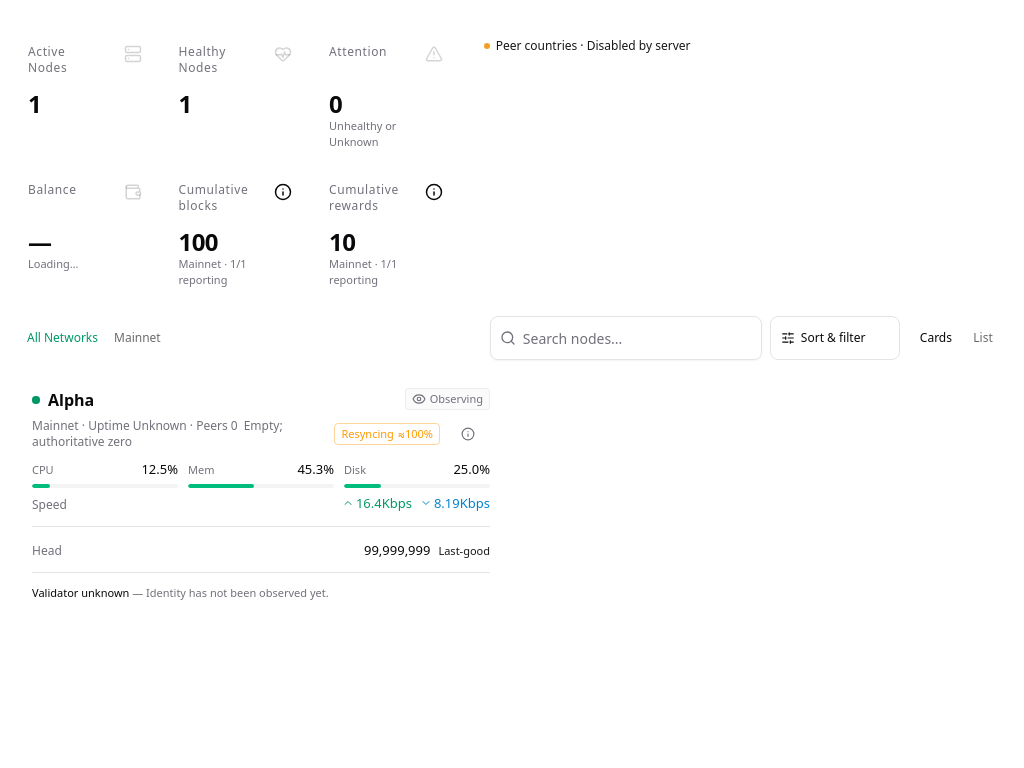
Test: Public Home dashboard › renders resync heights safely: 99,999,999 / 100,000,000 (≈100%)
Click the button "Resyncing ≈100%" at (387, 434), box x1=334 y1=412 x2=440 y2=456
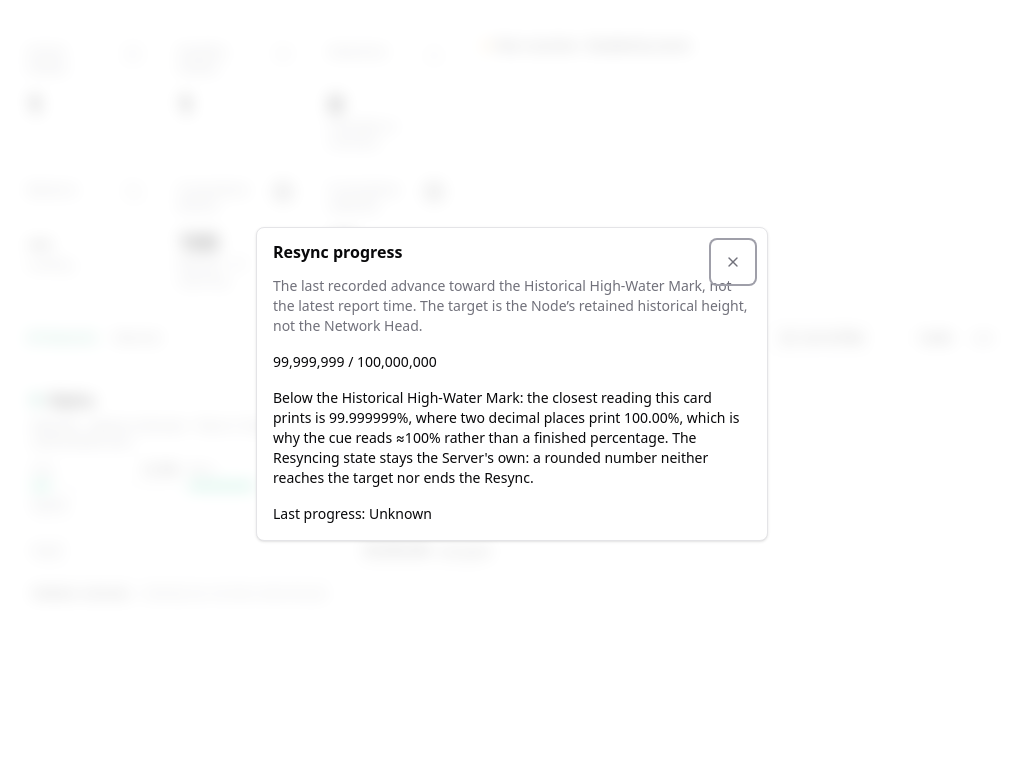
Expected: the text "99,999,999 / 100,000,000" is shown, x1=273 y1=352 x2=437 y2=371
Expected: the dialog "Resync progress" shows "the closest reading this card prints is 99.999999%", x1=273 y1=388 x2=712 y2=427
Expected: the dialog "Resync progress" shows "two decimal places print 100.00%", x1=273 y1=388 x2=712 y2=427
